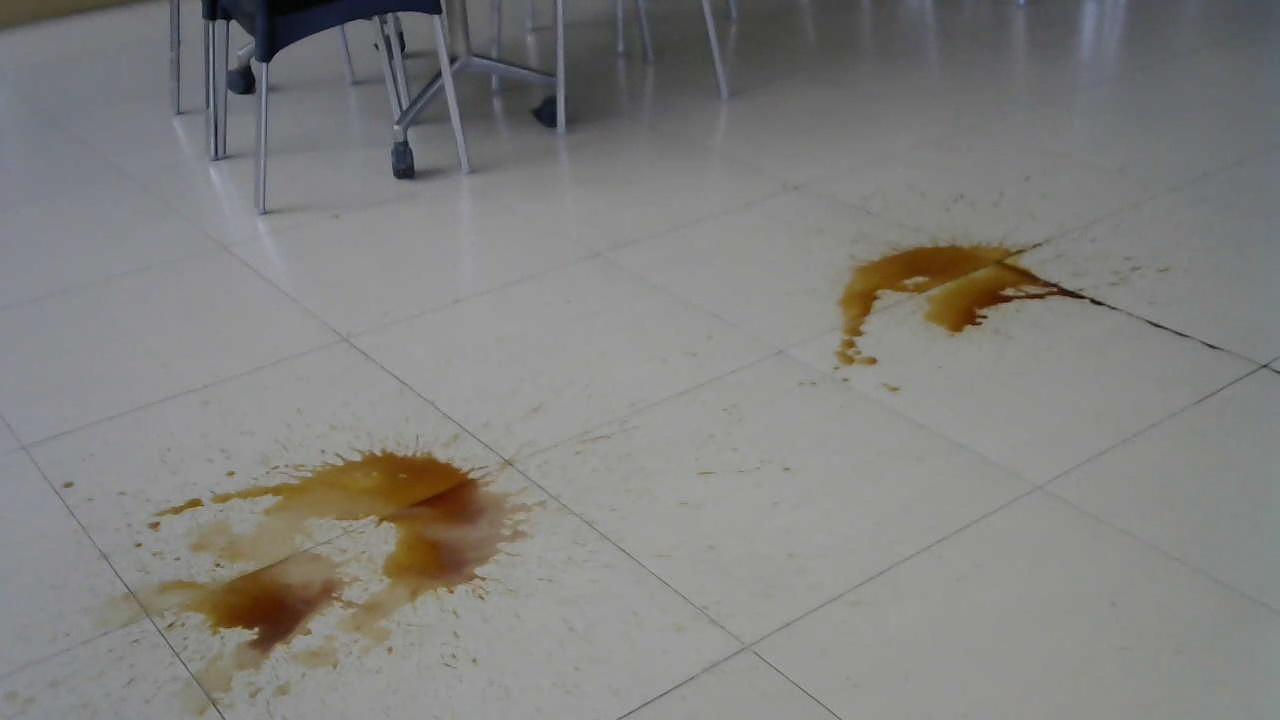dirty_floor: (111, 445, 515, 680), (829, 219, 1103, 368)
